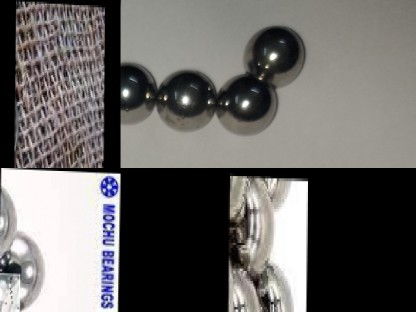ironball: (156, 57, 222, 133), (217, 71, 284, 141), (244, 25, 311, 85), (0, 228, 44, 308), (236, 183, 271, 278), (116, 58, 156, 125), (256, 252, 291, 311), (0, 176, 18, 269), (246, 174, 295, 203), (227, 173, 244, 231), (227, 227, 233, 311)
